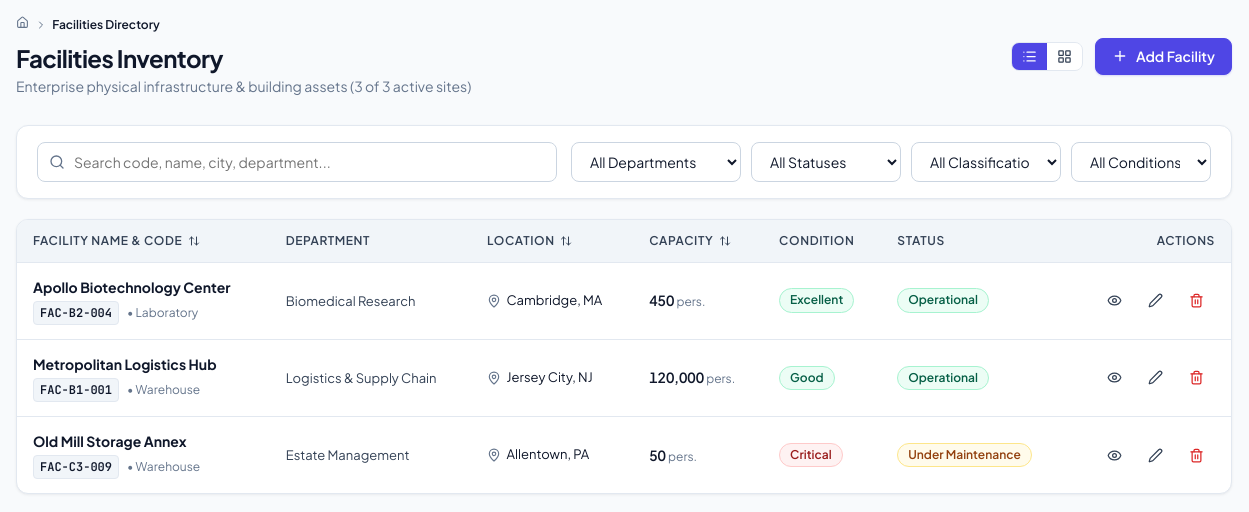
FacilitiesView Search & Filtering › filters facilities by condition rating
Select "Critical" in the dropdown named "Filter by condition rating" at point(1141, 162), box [1071, 142, 1211, 182]
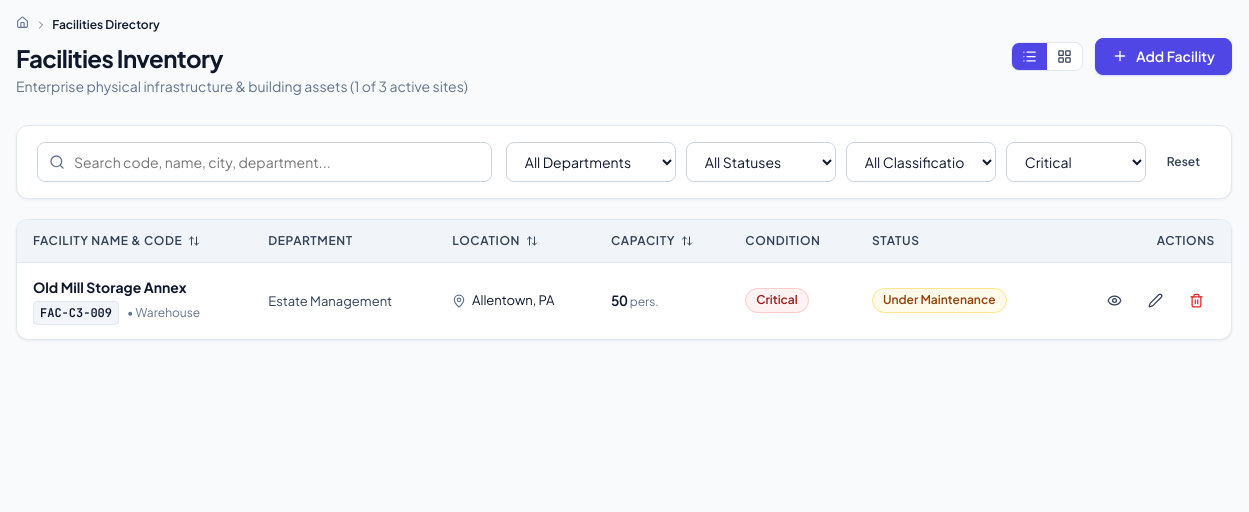
expect the text "Old Mill Storage Annex" is shown: met, box [33, 278, 187, 296]
expect the text "Apollo Biotechnology Center" is gone: met
